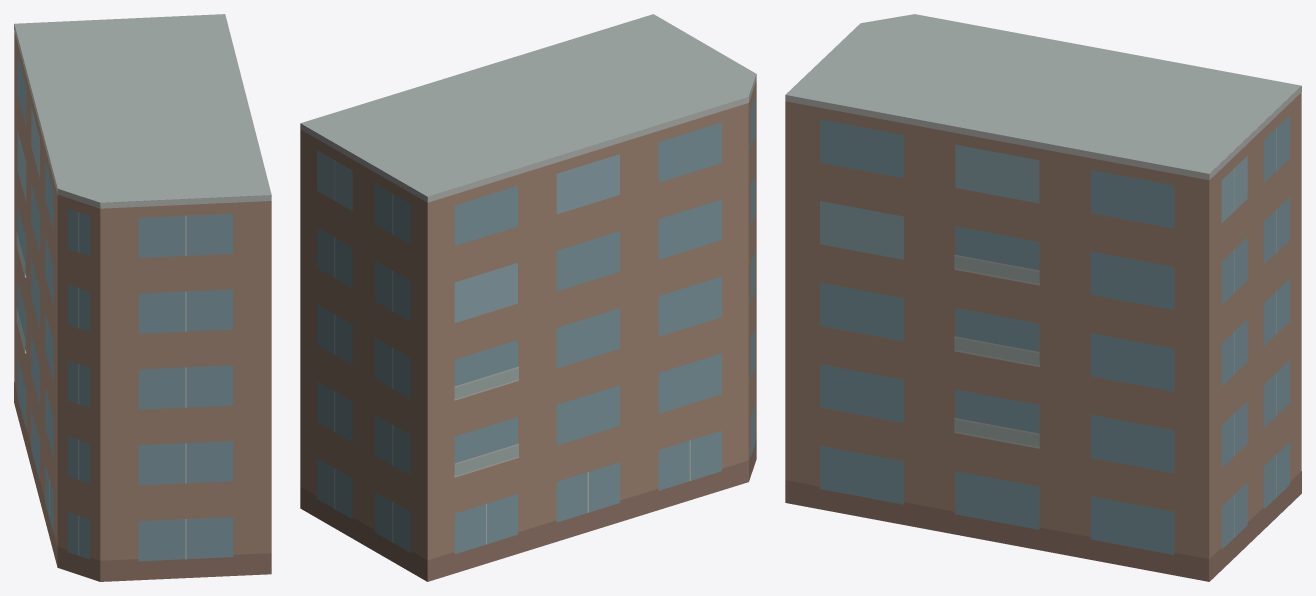
Rendered from survey-upis-32993088.glb.
3 views of the same model, side by side, from view 1: azimuth 30°, elevation 25°; view 2: azimuth 150°, elevation 25°; view 3: azimuth 270°, elevation 25° (orthographic). The views are drawn at different scales.
Parts seen in each view (by area): view 1: survey-upis-32993088.tmp; view 2: survey-upis-32993088.tmp; view 3: survey-upis-32993088.tmp.
Boxes of the visible parts, left/top/right/bottom form: survey-upis-32993088.tmp: left=14, top=14, right=271, bottom=581; survey-upis-32993088.tmp: left=300, top=14, right=756, bottom=581; survey-upis-32993088.tmp: left=785, top=14, right=1301, bottom=581.
Bounding box in the file's own units: 13.12 × 15.6 × 17.91.
